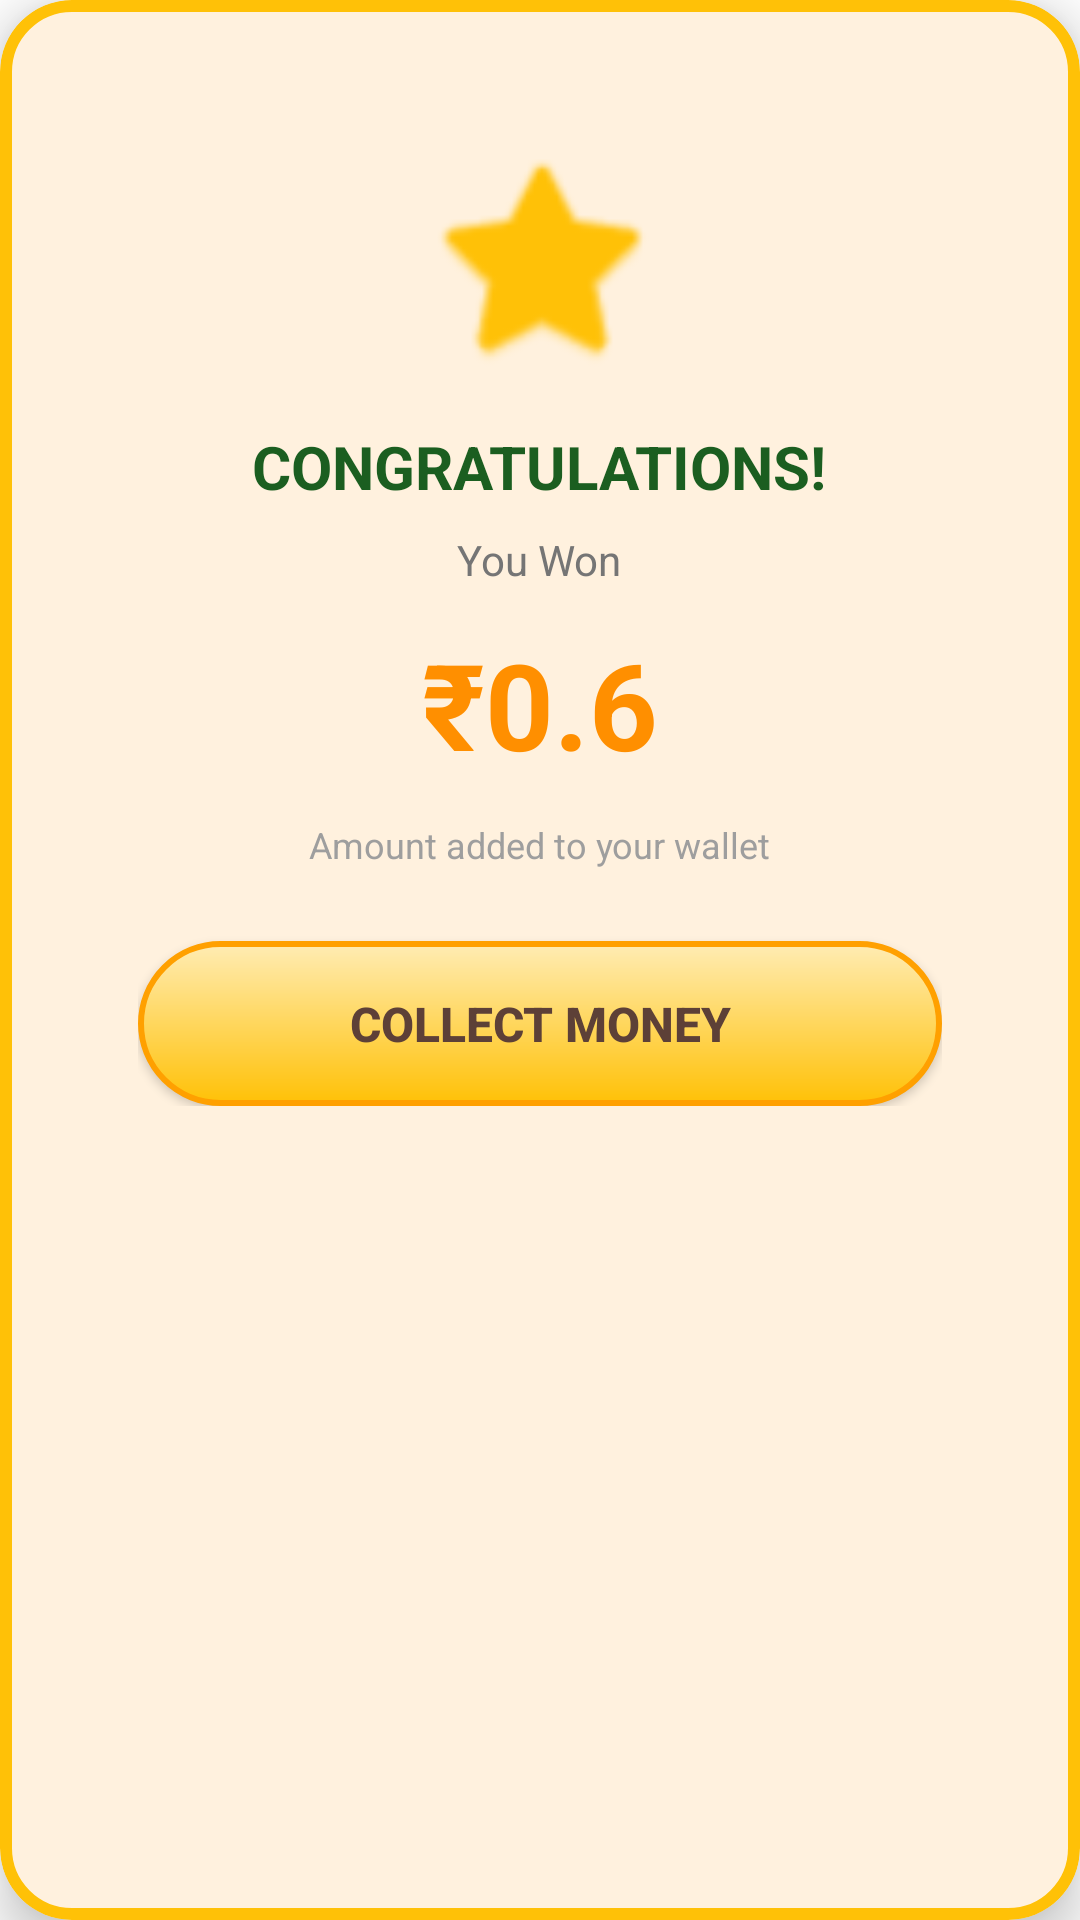

Icons on this 1080×1920 Android screen, each with the point to tap as (x,y):
star on: (542,260)
